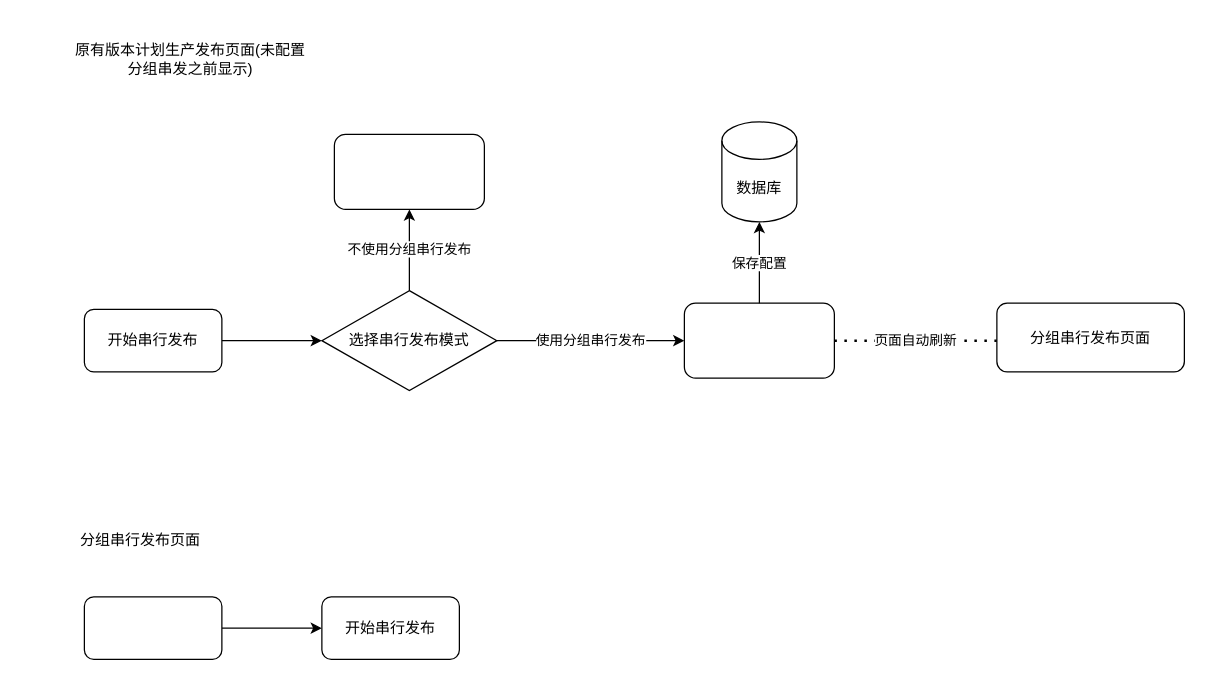
This 1206x681 diagram has some shape labels left out. Each missing label, with the box of its shape:
原有发布逻辑: (333, 133, 484, 209)
启动所有串行发布/启动发布: (83, 596, 222, 659)
配置分组串行发布: (683, 302, 834, 378)
